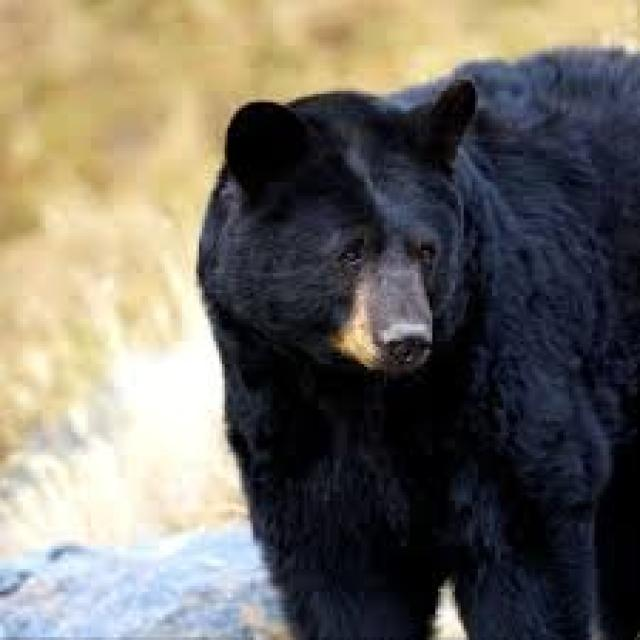bear: (206, 28, 640, 635)
